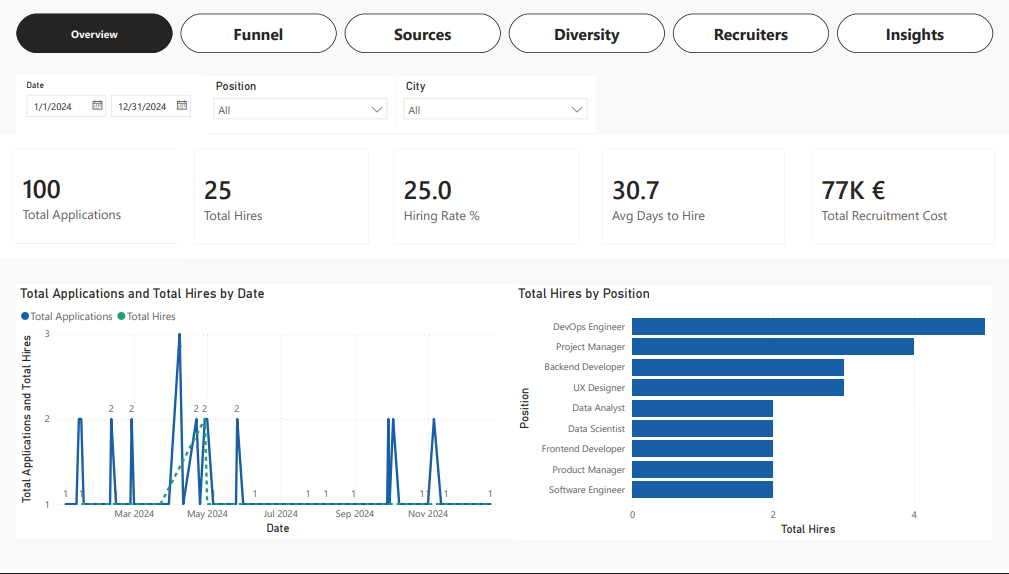

What the dashboard file says about the page in this screenshot:
{"tool":"powerbi","page":{"name":"Overview","canvas":[1280,720],"ordinal":0},"visuals":[{"type":"cardVisual","fields":{"Data":["_Measures.Total Applications"]},"box":[0,170,255,155],"z":0},{"type":"cardVisual","fields":{"Data":["_Measures.Hiring Rate %"]},"box":[483.3,170,270,156.7],"z":1000},{"type":"cardVisual","fields":{"Data":["_Measures.Total Hires"]},"box":[230,170,256.7,156.7],"z":2000},{"type":"cardVisual","fields":{"Data":["_Measures.Avg Days to Hire"]},"box":[746.7,170,266.7,156.7],"z":3000},{"type":"cardVisual","fields":{"Data":["_Measures.Total Recruitment Cost"]},"box":[1013.3,170,266.7,156.7],"z":4000},{"type":"lineChart","fields":{"Category":["DateTable.Date"],"Y":["_Measures.Total Applications","_Measures.Total Hires"]},"box":[21.7,360,631.7,321.7],"z":5000},{"type":"clusteredBarChart","fields":{"Category":["Candidates.Position"],"Y":["_Measures.Total Hires"]},"box":[653,360,605,323],"z":6000},{"type":"slicer","fields":{"Values":["DateTable.Date"]},"box":[21.7,95,240,75],"z":7000},{"type":"slicer","fields":{"Values":["Candidates.Position"]},"box":[262,95,240,72],"z":8000},{"type":"slicer","fields":{"Values":["Candidates.City"]},"box":[502.5,95,252.5,71.7],"z":9000},{"type":"pageNavigator","box":[22,16,1238,50],"z":9014}]}

Visuals, with their boxes in screenshot pixels (x1, y1, x2, y2), scaled from the page's 1280x720 canvas onto the 1009x574 screenshot:
cardVisual - _Measures.Total Applications: rect(0, 136, 201, 259)
cardVisual - _Measures.Hiring Rate %: rect(381, 136, 594, 260)
cardVisual - _Measures.Total Hires: rect(181, 136, 384, 260)
cardVisual - _Measures.Avg Days to Hire: rect(589, 136, 799, 260)
cardVisual - _Measures.Total Recruitment Cost: rect(799, 136, 1008, 260)
lineChart - DateTable.Date x _Measures.Total Applications: rect(17, 287, 515, 543)
clusteredBarChart - Candidates.Position x _Measures.Total Hires: rect(515, 287, 992, 545)
slicer - DateTable.Date: rect(17, 76, 206, 136)
slicer - Candidates.Position: rect(207, 76, 396, 133)
slicer - Candidates.City: rect(396, 76, 595, 133)
pageNavigator: rect(17, 13, 993, 53)
